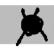not correct: (15, 6, 50, 47)
